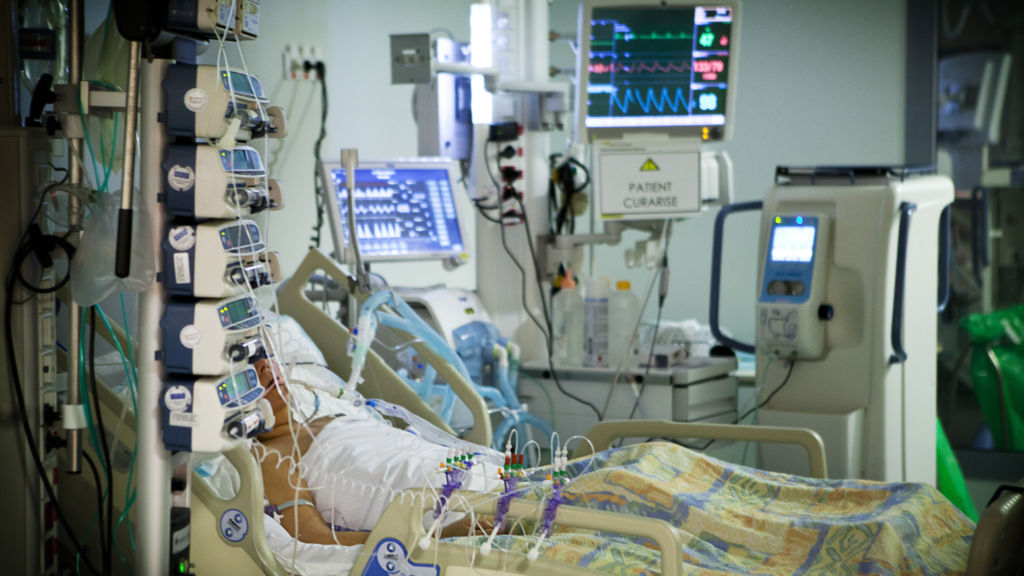bedrail: (341, 474, 694, 576), (570, 412, 834, 474)
bedside_monitor: (572, 1, 747, 142), (317, 159, 472, 264)
breathing_tube: (348, 285, 527, 439)
hospital_bed: (173, 236, 1019, 573)
patient: (250, 336, 797, 561)
syringe_pump: (167, 372, 275, 457), (163, 299, 271, 384), (160, 143, 268, 228), (160, 58, 268, 143), (160, 222, 268, 306)
ventilator: (380, 233, 542, 432)
